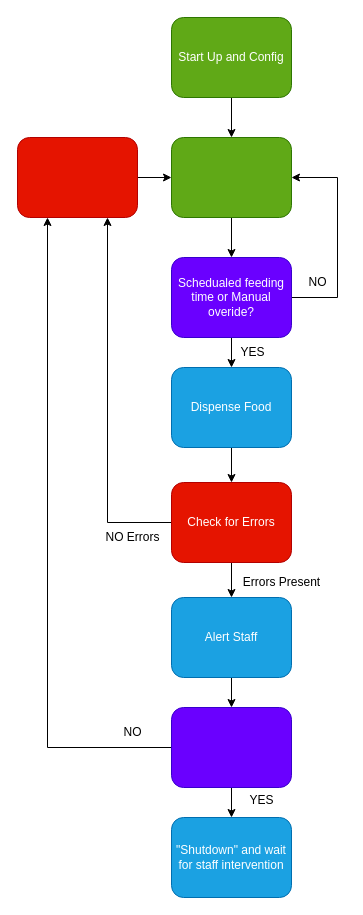
Some shapes in this 363 by 915 pixel diagram are drawn without their labels. Each missing label, with the centre of its shape:
"Main Loop" belongs at point (231, 177).
"Too many errors?" belongs at point (231, 747).
"Write a log entry" belongs at point (77, 177).
